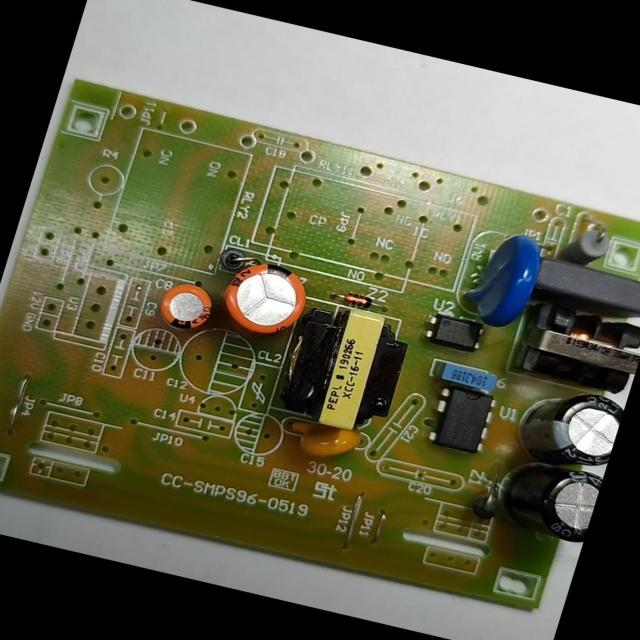Cap1: (208, 253, 314, 343)
Cap2: (150, 276, 220, 338)
Cap3: (508, 376, 627, 474)
Cap4: (497, 454, 604, 547)
MOSFET: (422, 382, 499, 458)
Mov: (454, 225, 550, 336)
Resistor: (556, 218, 618, 272)
Transformer: (279, 296, 418, 441), (514, 293, 640, 397)
